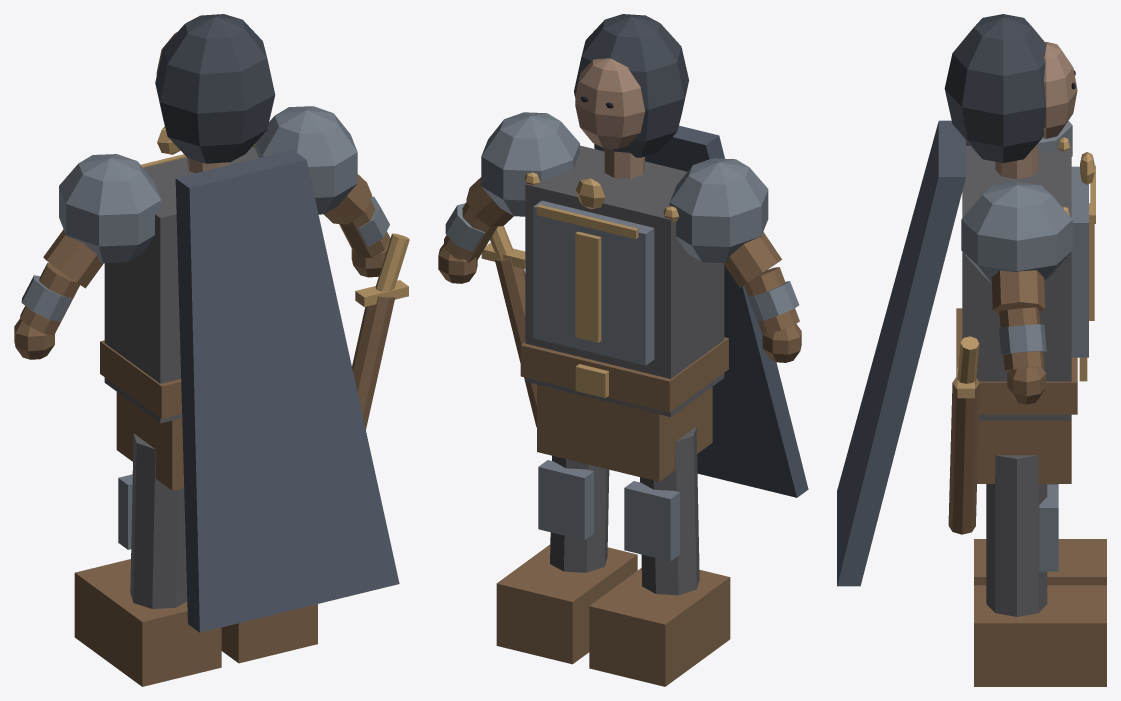
The model's file is player.glb.
The picture shows the model from 3 angles, left to right: view 1: azimuth 30°, elevation 25°; view 2: azimuth 150°, elevation 25°; view 3: azimuth 270°, elevation 25°; orthographic projection. The views are drawn at different scales.
Parts seen in each view (by area): view 1: AshenKingdoms_Player; view 2: AshenKingdoms_Player; view 3: AshenKingdoms_Player.
Part boxes in pixels (x1,y1,x2,y2): AshenKingdoms_Player: (14,14,409,686); AshenKingdoms_Player: (438,14,808,686); AshenKingdoms_Player: (837,14,1106,686).
Bounding box in the file's own units: 1.09 × 1.77 × 0.69.
